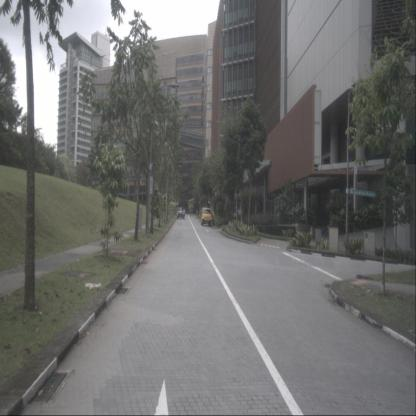vehicle-car: (200, 206, 213, 226), (176, 207, 186, 220)
